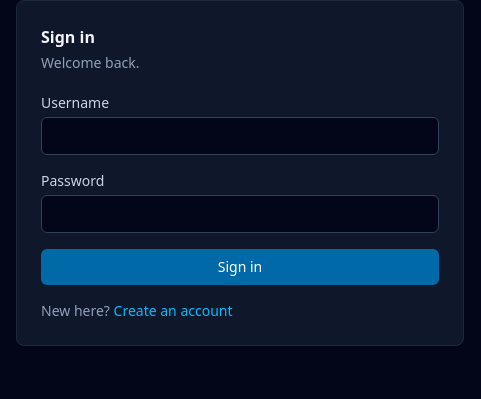
Test case: AuthScreen › shows a friendly error for wrong credentials
Type "alice" into the field labelled "Username".
click(240, 136); type("alice")  # box [41,117,439,155]
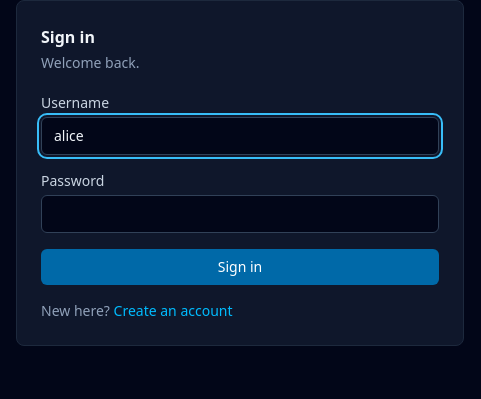
Type "long-enough-password" into the password field labelled "Password".
click(240, 214); type("long-enough-password")  # box [41,195,439,233]
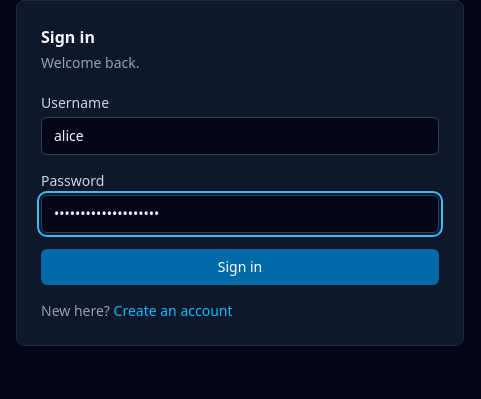
Click the button "Sign in".
click(240, 267)  # box [41,249,439,285]
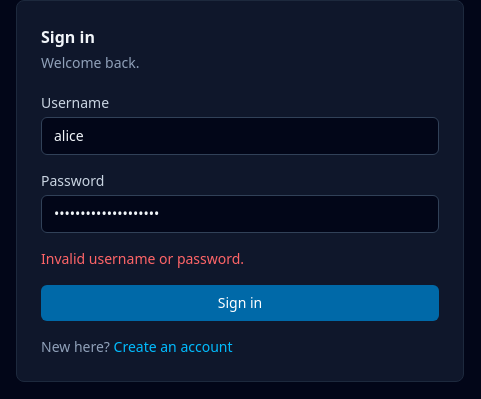
expect the message reads "Invalid username or password.": met, box [41,249,244,268]
